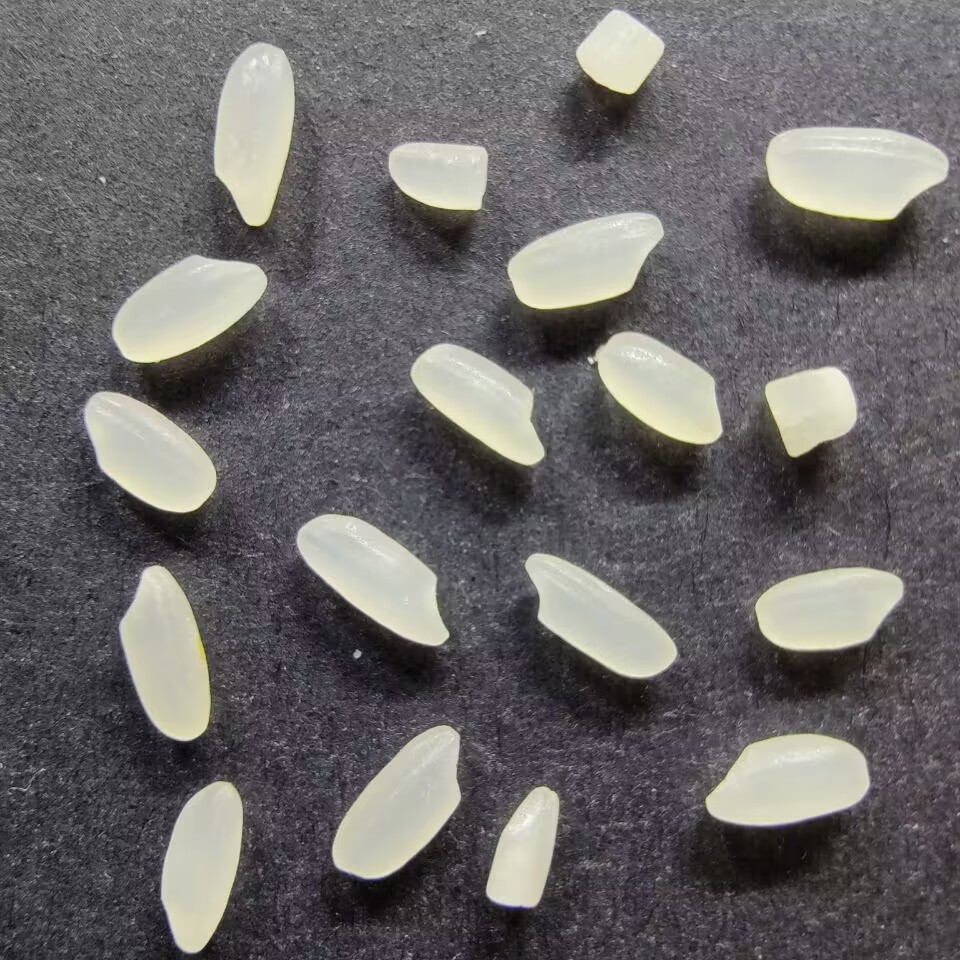broken: (484, 782, 562, 910), (763, 366, 858, 458), (574, 7, 665, 97), (386, 140, 488, 212)
rice: (294, 511, 452, 646), (330, 722, 463, 880), (523, 551, 678, 680), (764, 125, 949, 222), (110, 252, 267, 364), (116, 564, 213, 743), (82, 389, 219, 514), (410, 341, 547, 466), (504, 209, 666, 311), (703, 730, 870, 828), (211, 41, 295, 227), (157, 778, 243, 955), (595, 330, 725, 446), (753, 564, 905, 652)
